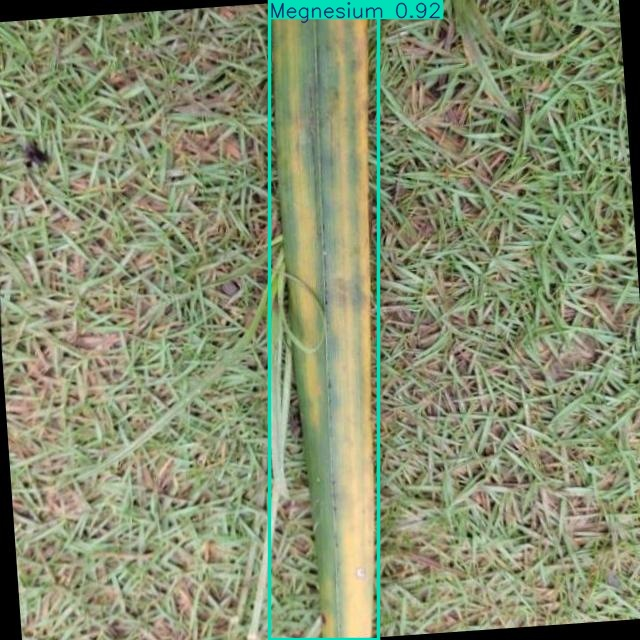Megnesium: (269, 0, 379, 639)
